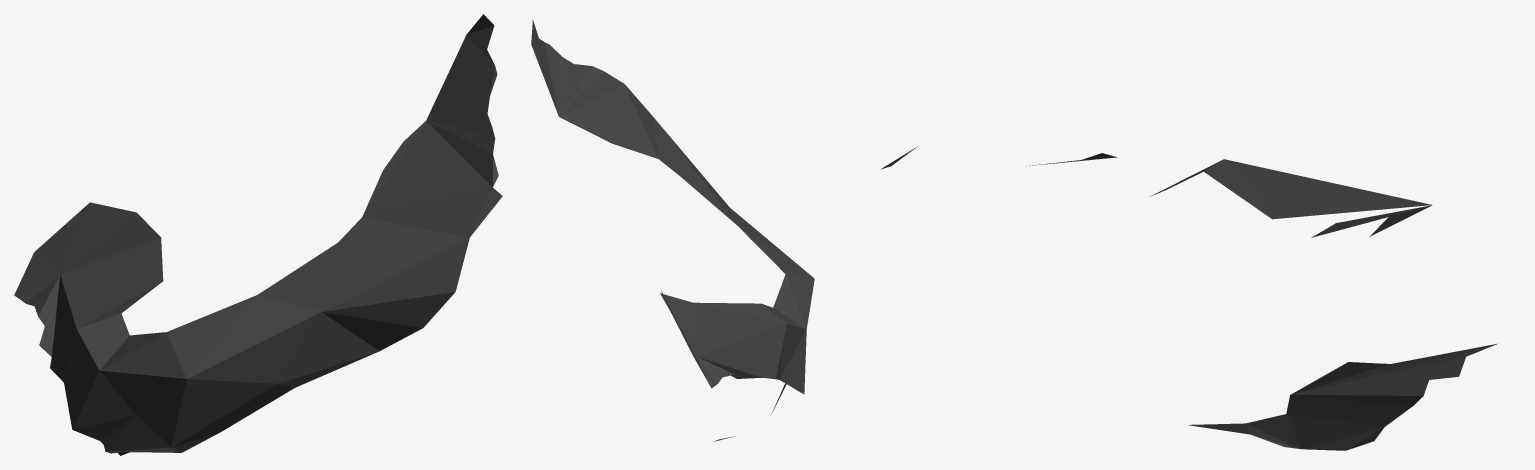
The model's file is A_subclavian_R_A_subclavian_R.glb.
3 views of the same model, side by side, from view 1: azimuth 30°, elevation 25°; view 2: azimuth 150°, elevation 25°; view 3: azimuth 270°, elevation 25° (orthographic). The views are drawn at different scales.
Parts seen in each view (by area): view 1: A_subclavian_R_A_subclavian_R; view 2: A_subclavian_R_A_subclavian_R; view 3: A_subclavian_R_A_subclavian_R.
Part boxes in pixels (x1,y1,x2,y2): A_subclavian_R_A_subclavian_R: (14,14,502,455); A_subclavian_R_A_subclavian_R: (531,20,814,441); A_subclavian_R_A_subclavian_R: (880,146,1497,450).
Bounding box in the file's own units: 0.00685 × 0.0071 × 0.00658.
Materials: 1 (1 with a texture image).
